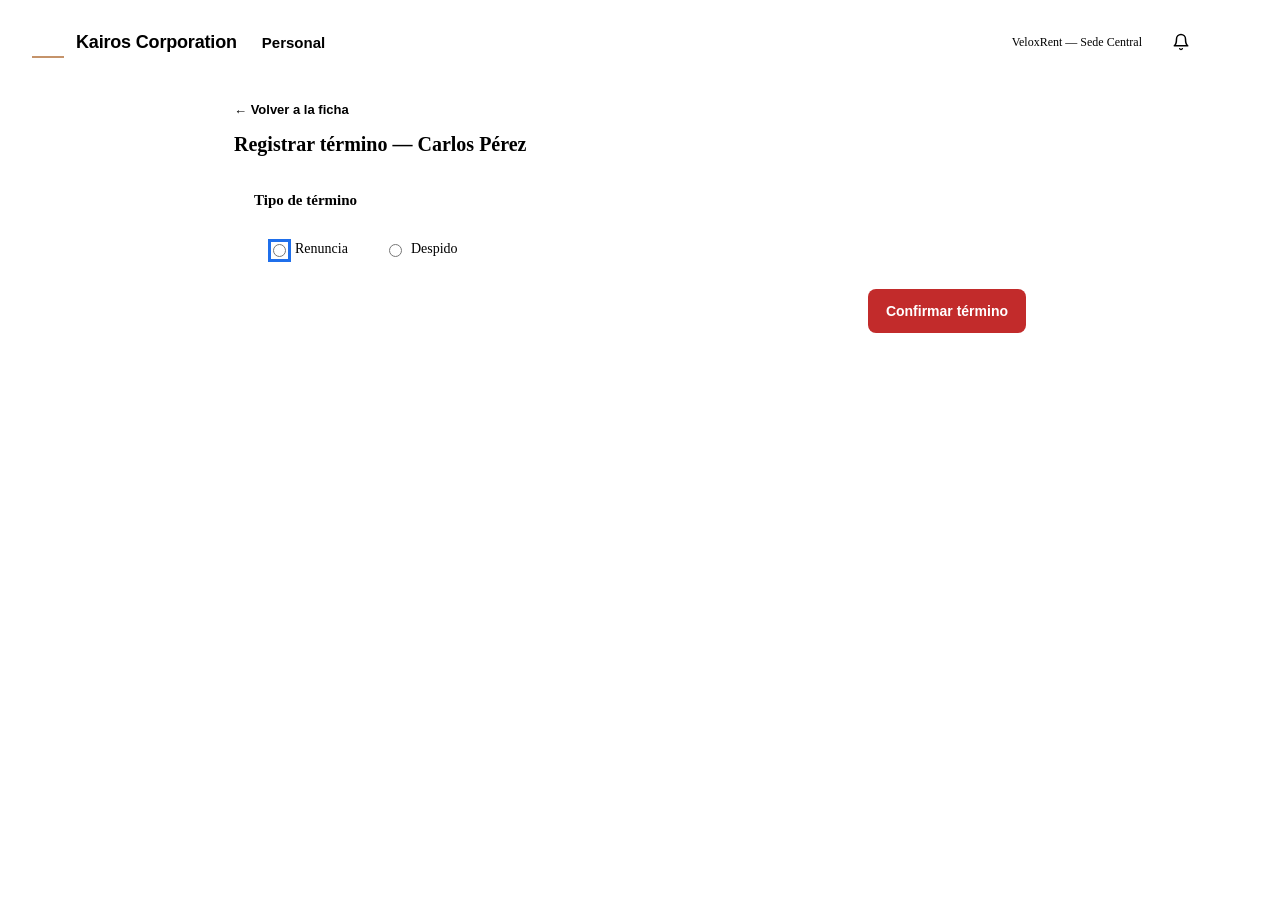
Test: TerminationScreen (ADP-09) › renuncia y despido son formularios distintos, no el mismo disfrazado
Step 1. Click the radio button labelled "Renuncia" → (280, 250), box [273,244,286,257]
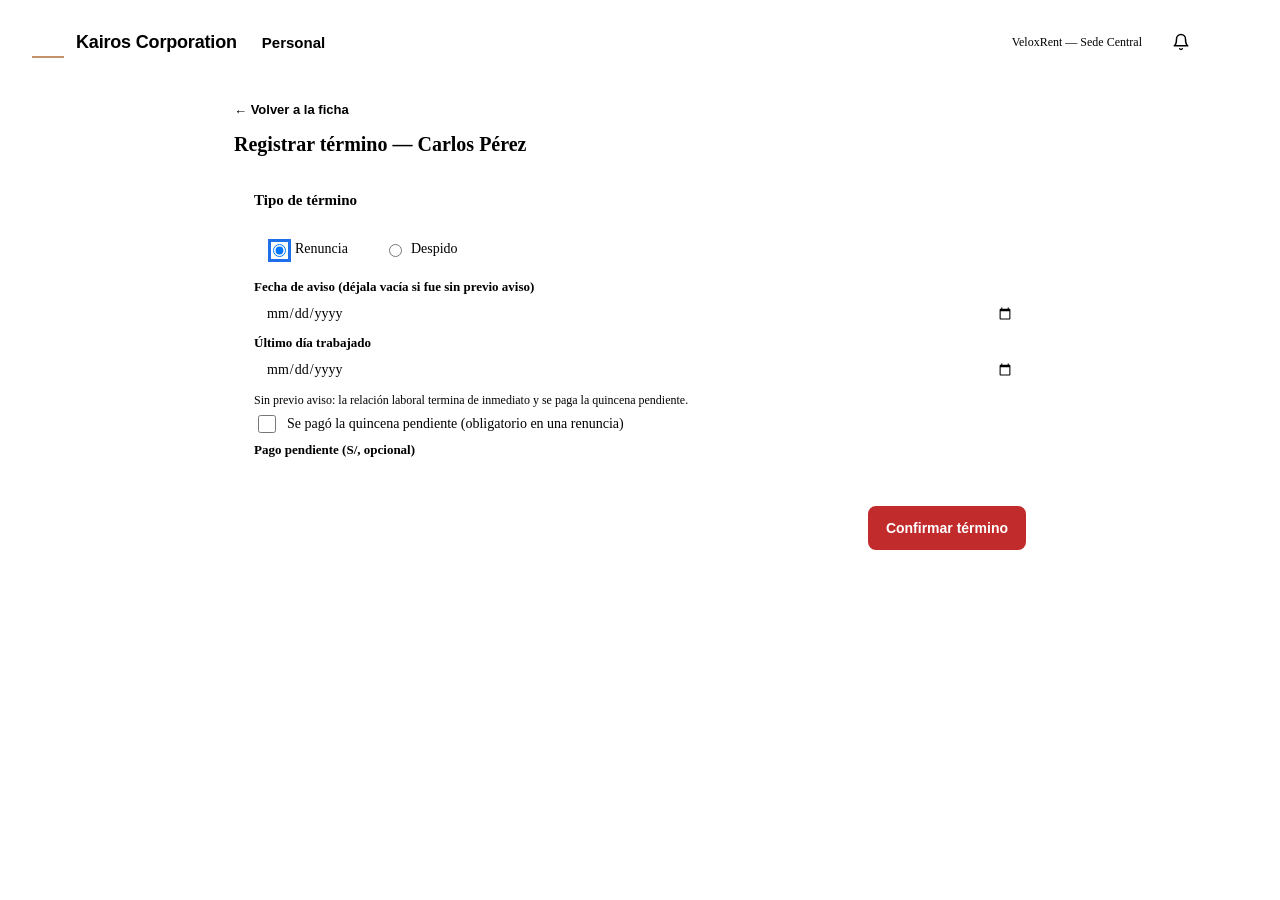
Expected: the field labelled "Motivo del despido" is not shown
Now the date field labelled "Fecha de aviso (déjala vacía si fue sin previo aviso)" is shown, box [254,295,1026,333]
Now the date field labelled "Último día trabajado" is shown, box [254,351,1026,389]
Step 2. Click the radio button labelled "Despido" → (395, 250), box [389,244,402,257]
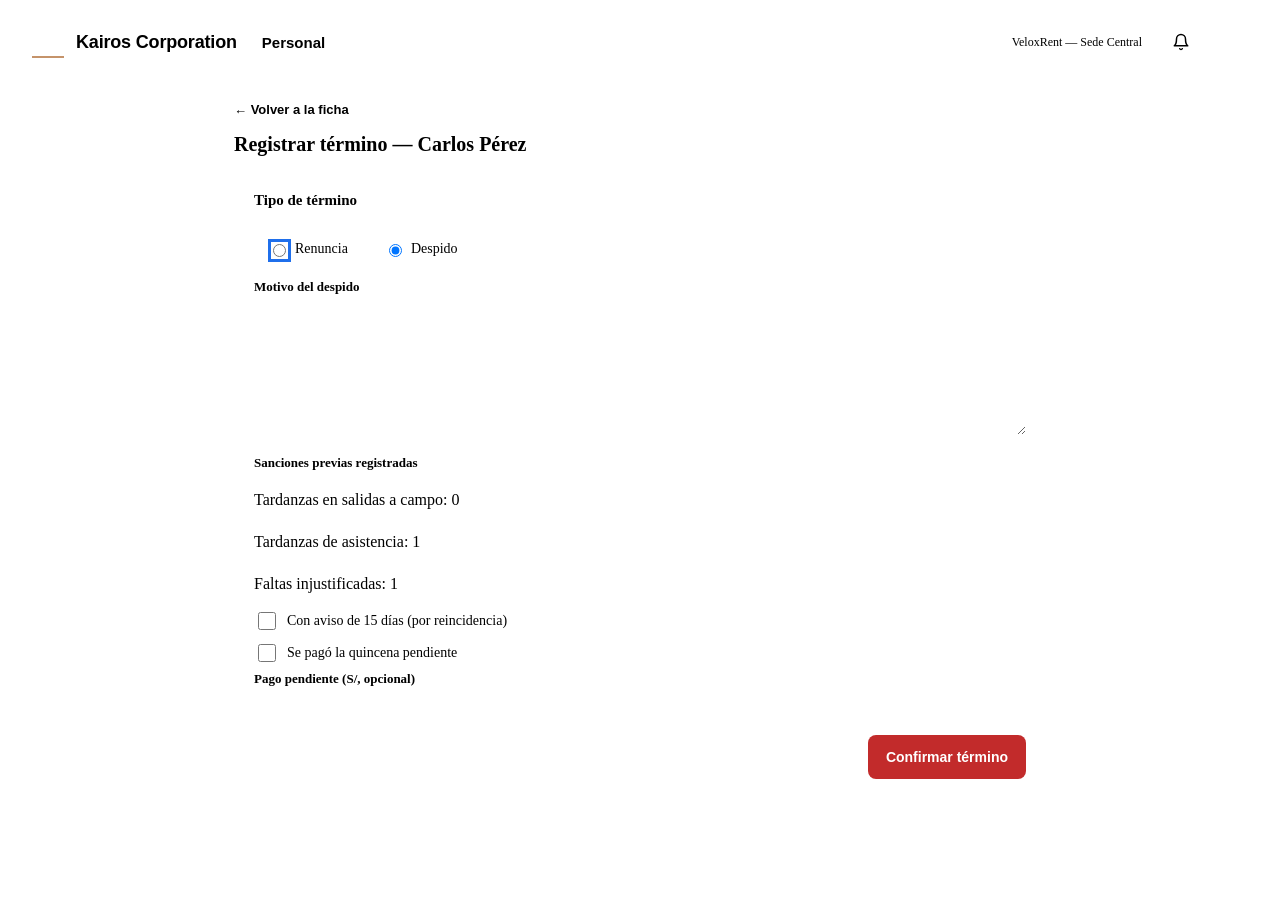
Now the label labelled "Último día trabajado" is gone
Now the text box labelled "Motivo del despido" is shown, box [254,295,1026,435]
Now the heading "Sanciones previas registradas" is shown, box [254,455,418,470]
